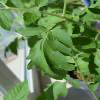Tomato leaf: (29, 26, 80, 80), (16, 24, 49, 38), (22, 9, 46, 27), (0, 10, 15, 35)
